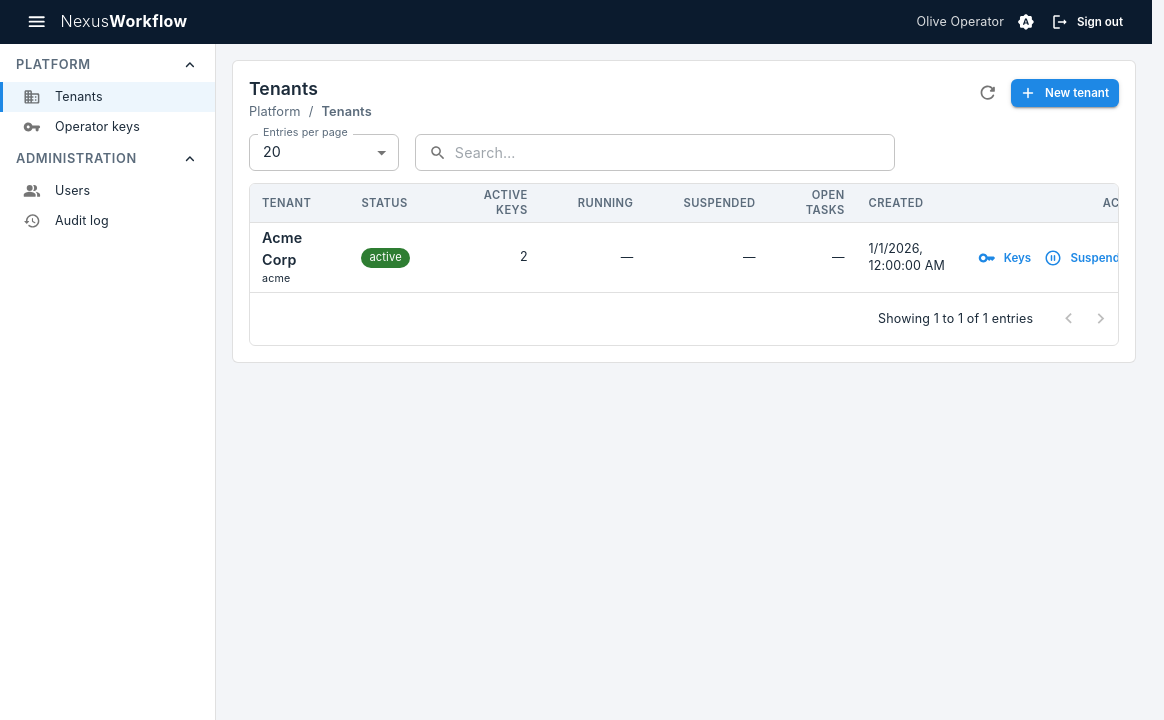
Test: what each role sees › being refused (403) is not being signed out
This screenshot has width=1164, height=720.
Expected: the text "Acme Corp" is shown, [262,229,302,268]
Click the button named "Refresh": [987, 93] box [972,77,1003,108]
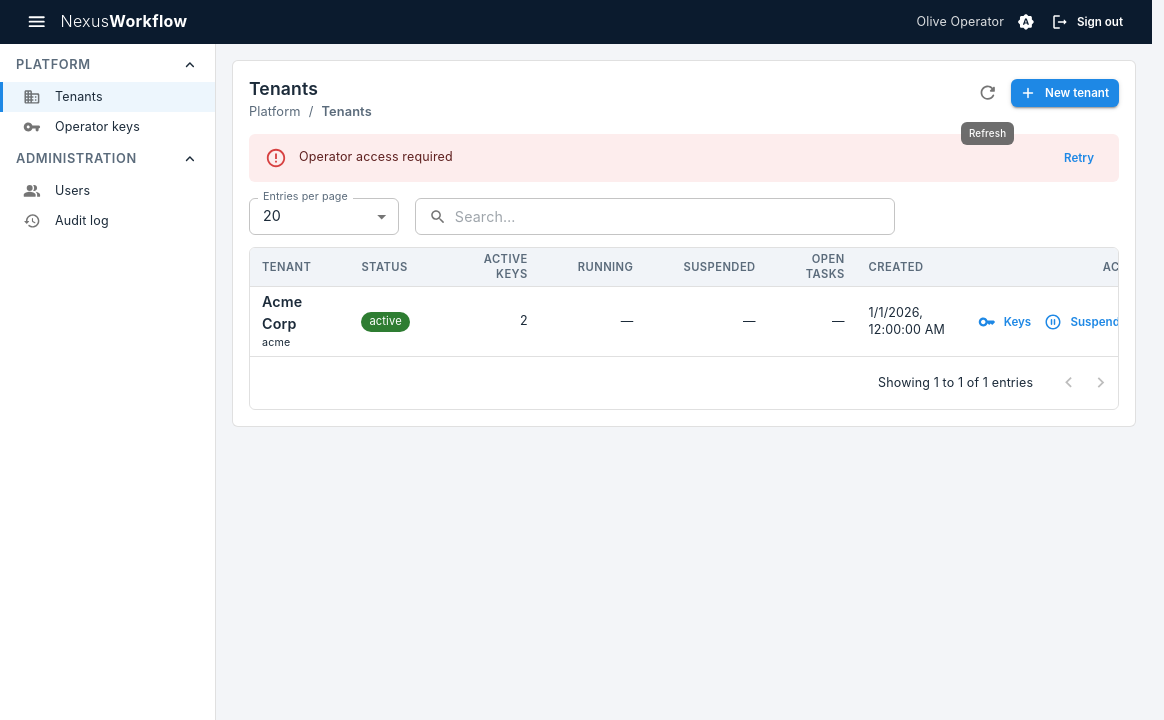
Expected: the button "Sign out" is shown, [1048,8,1128,36]
Now the text "Operator access required" is shown, box [299,149,453,164]
